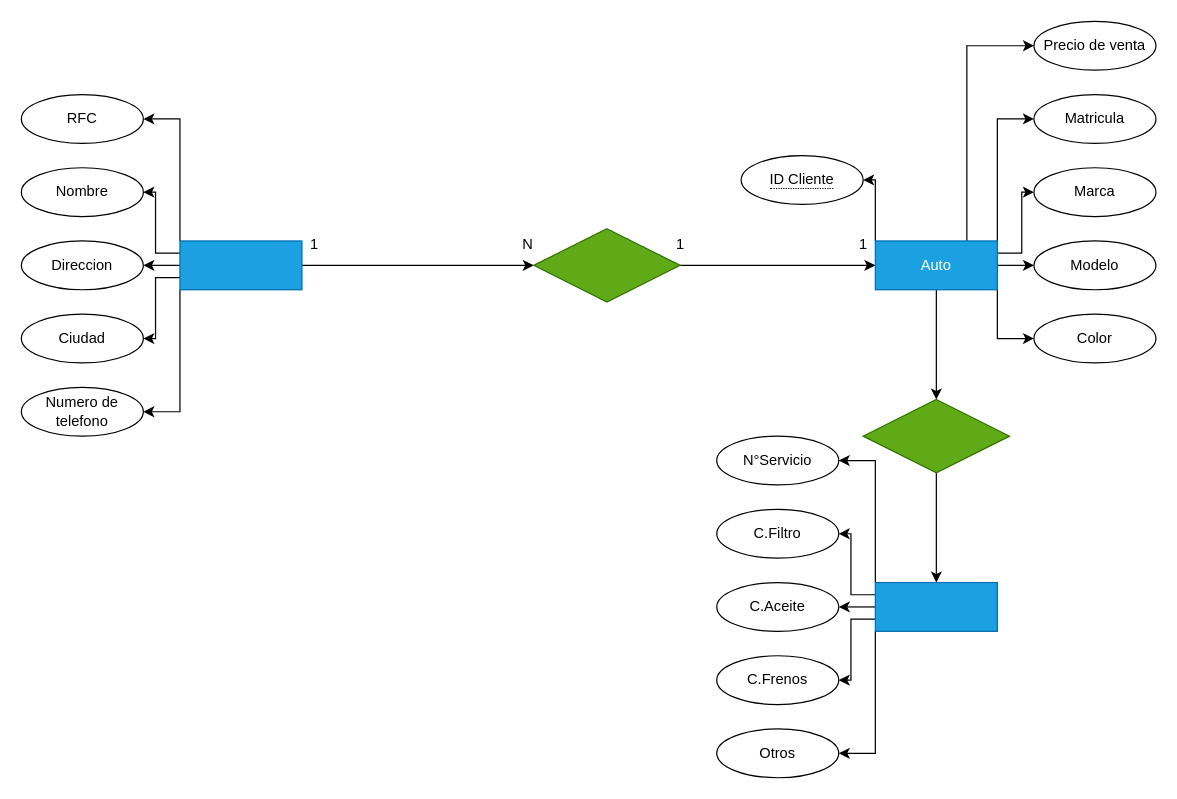
Image size: 1177x799. Some labels were removed from this diagram. Here are the shapes that lost their labels. From the top down, the box of each, then its label:
(179, 240, 302, 290): Cliente
(533, 228, 680, 302): COMPRA
(862, 398, 1010, 473): TIENE
(874, 581, 997, 631): Revision
